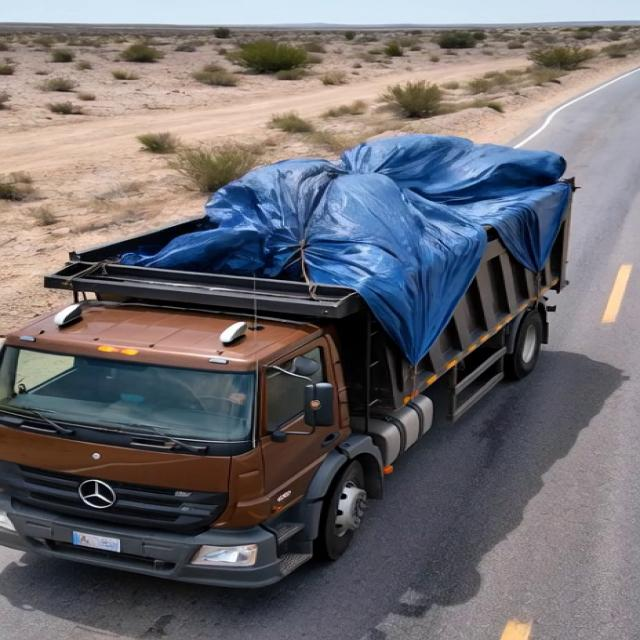Box: (41, 128, 597, 310)
Truck: (0, 99, 624, 588)
